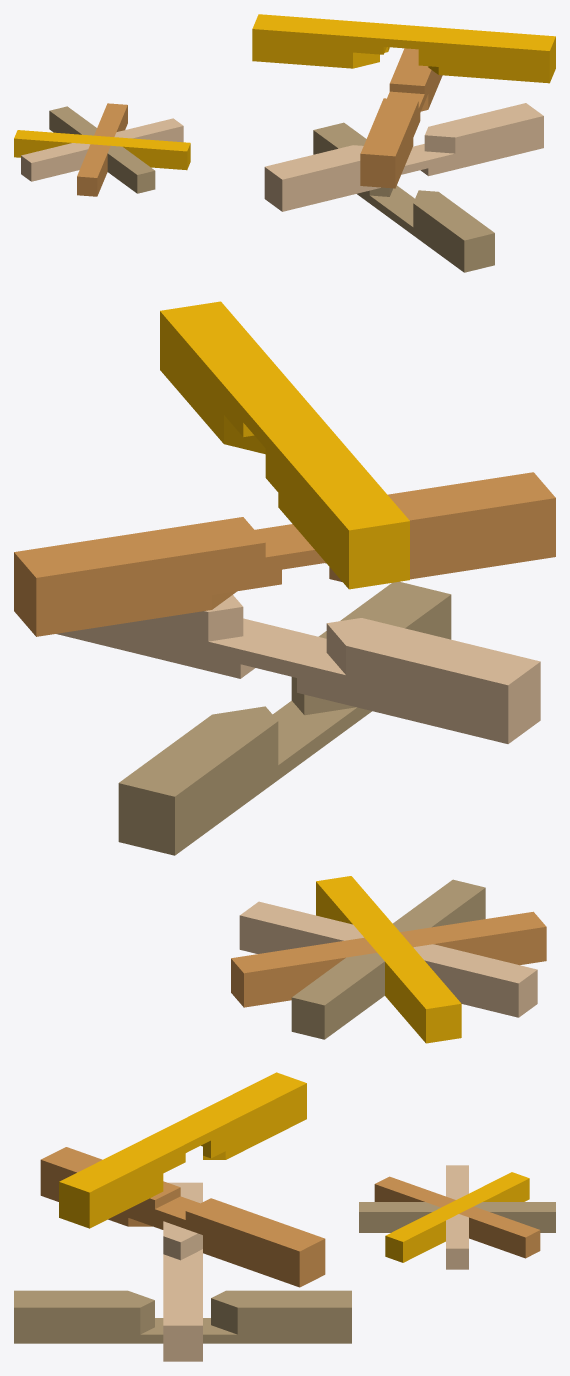
3 renders of one model, top to bottom at view 1: azimuth 30°, elevation 25°; view 2: azimuth 150°, elevation 25°; view 3: azimuth 270°, elevation 25°, orthographic. The views are drawn at different scales.
Bounding box in the file's own units: 5.02 × 2.25 × 5.45.
